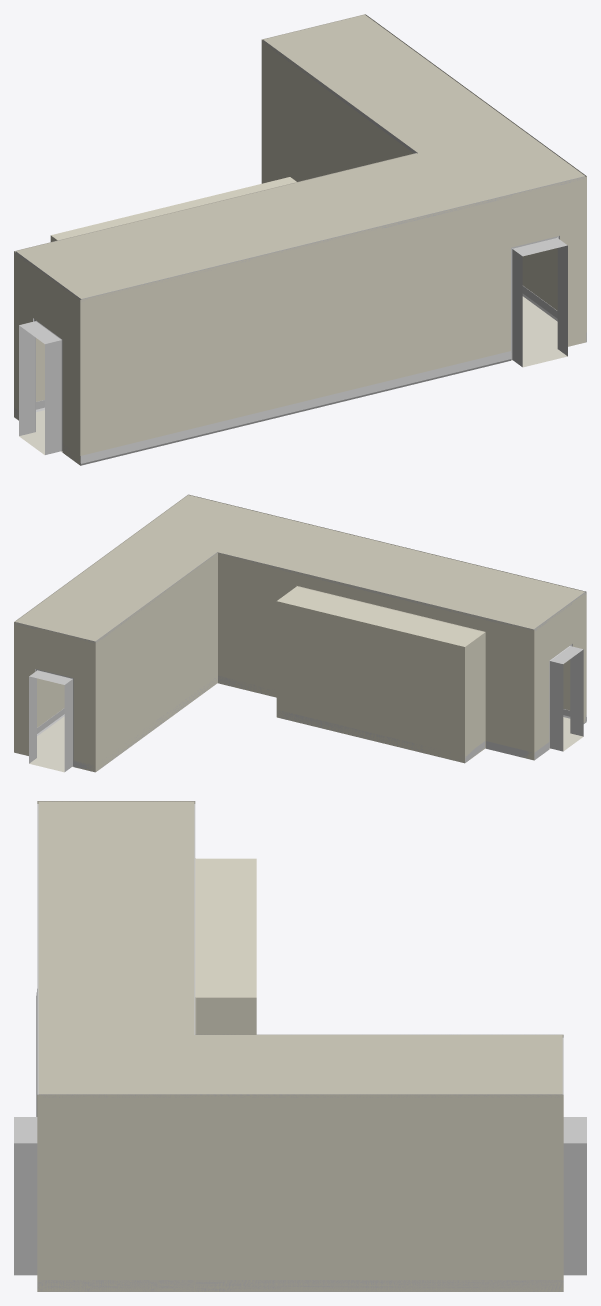
File: Hall_L.fbx
The picture shows the model from 3 angles, top to bottom: view 1: azimuth 30°, elevation 25°; view 2: azimuth 150°, elevation 25°; view 3: azimuth 270°, elevation 25°; orthographic projection. The views are drawn at different scales.
Parts seen in each view (by area): view 1: Hallway_L; view 2: Hallway_L; view 3: Hallway_L.
Boxes of the visible parts, x1=… form: Hallway_L: x1=14, y1=14, x2=586, y2=465; Hallway_L: x1=14, y1=494, x2=586, y2=772; Hallway_L: x1=14, y1=801, x2=586, y2=1291.
Size of the model in its own units: 1009 by 306 by 806.
